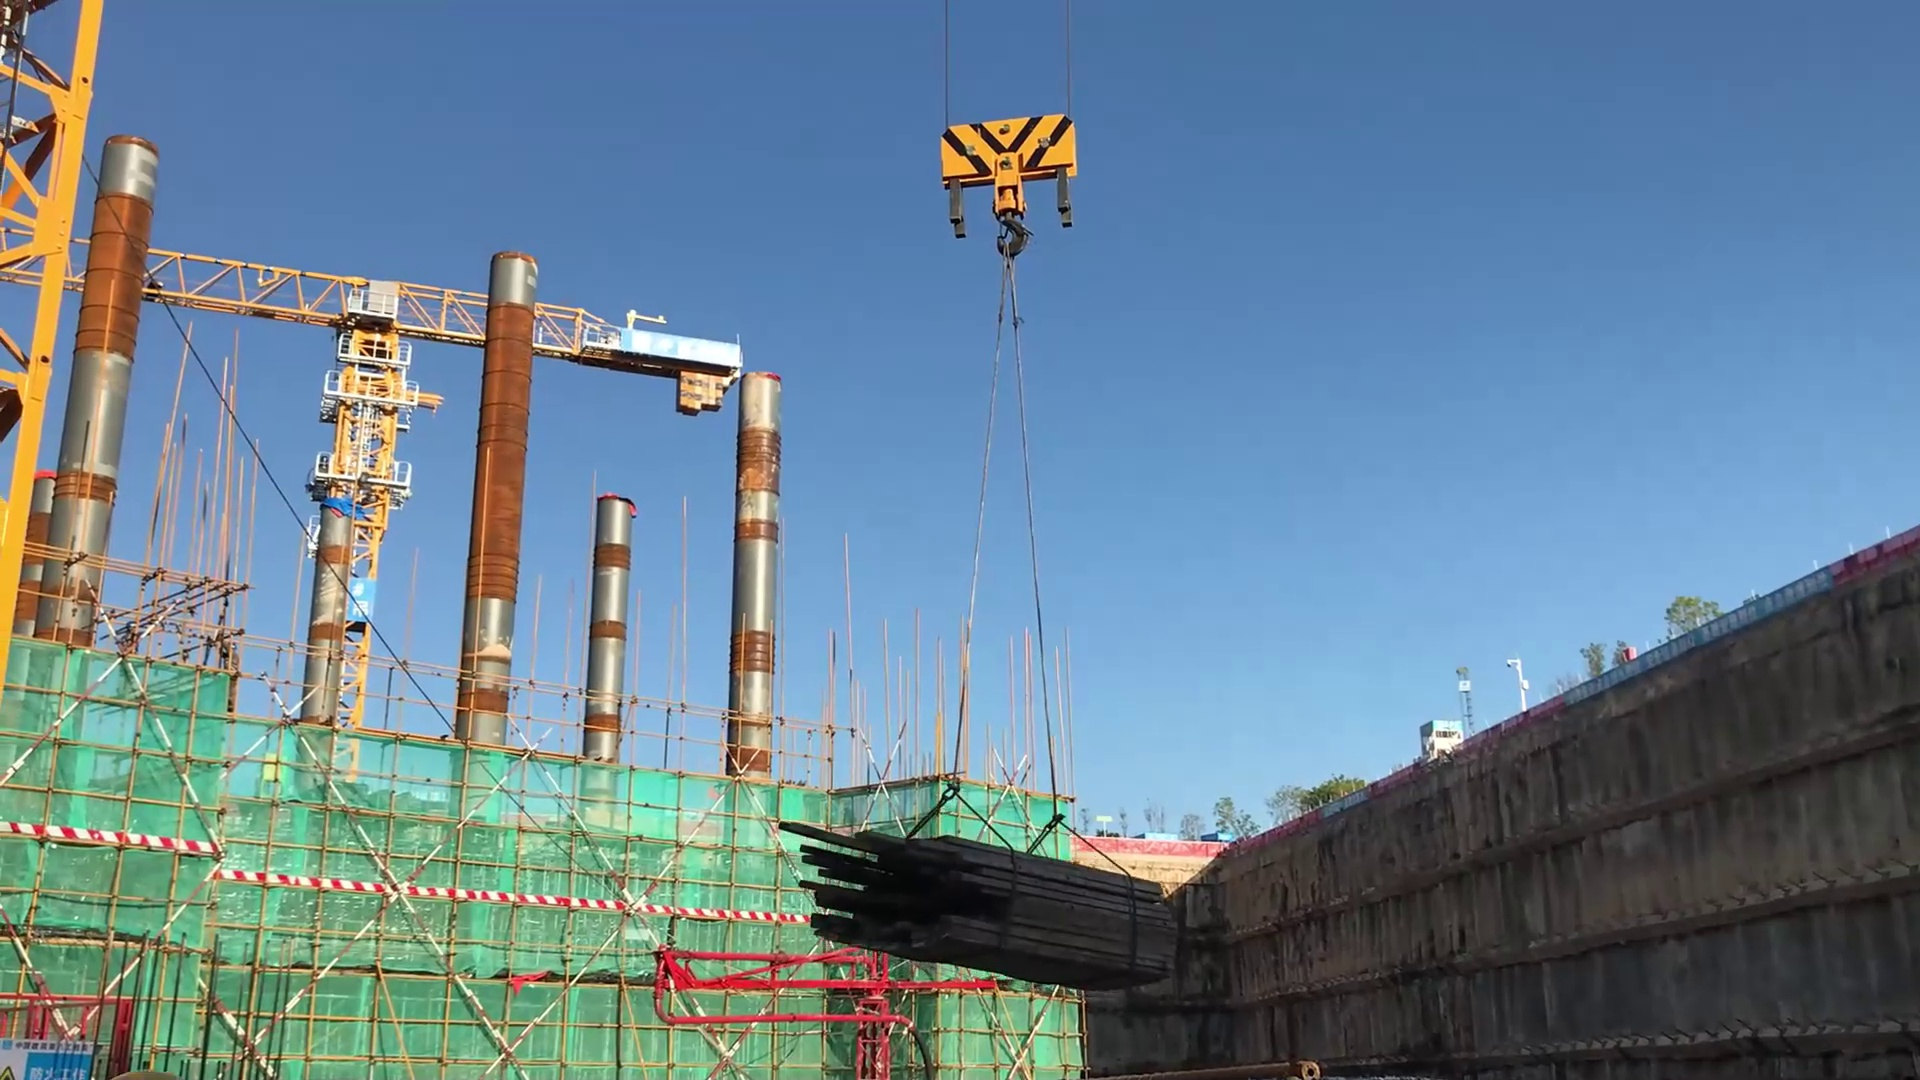hook: (928, 105, 1088, 280)
slogan: (1547, 568, 1862, 692)
wood: (767, 807, 1170, 993)
